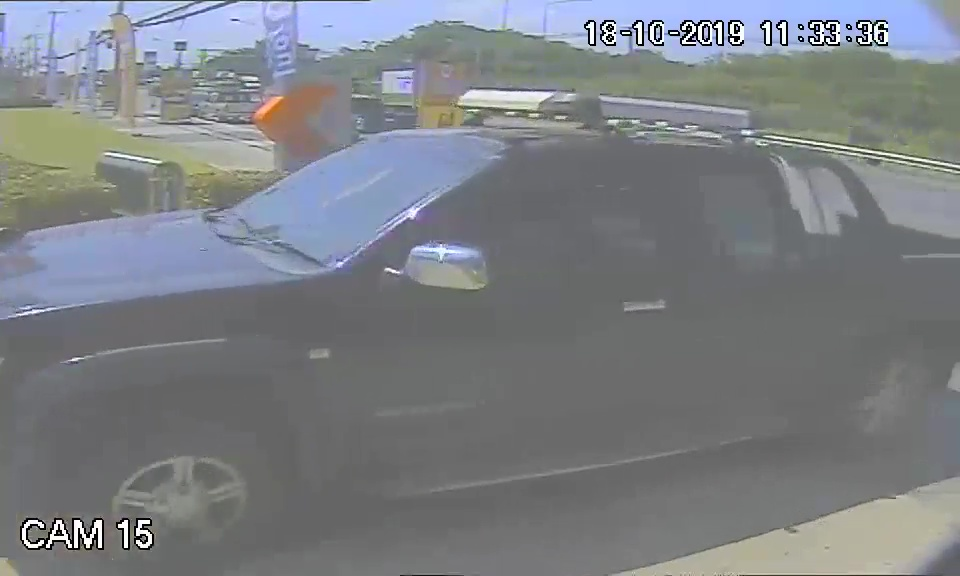pickup: (7, 114, 959, 512)
